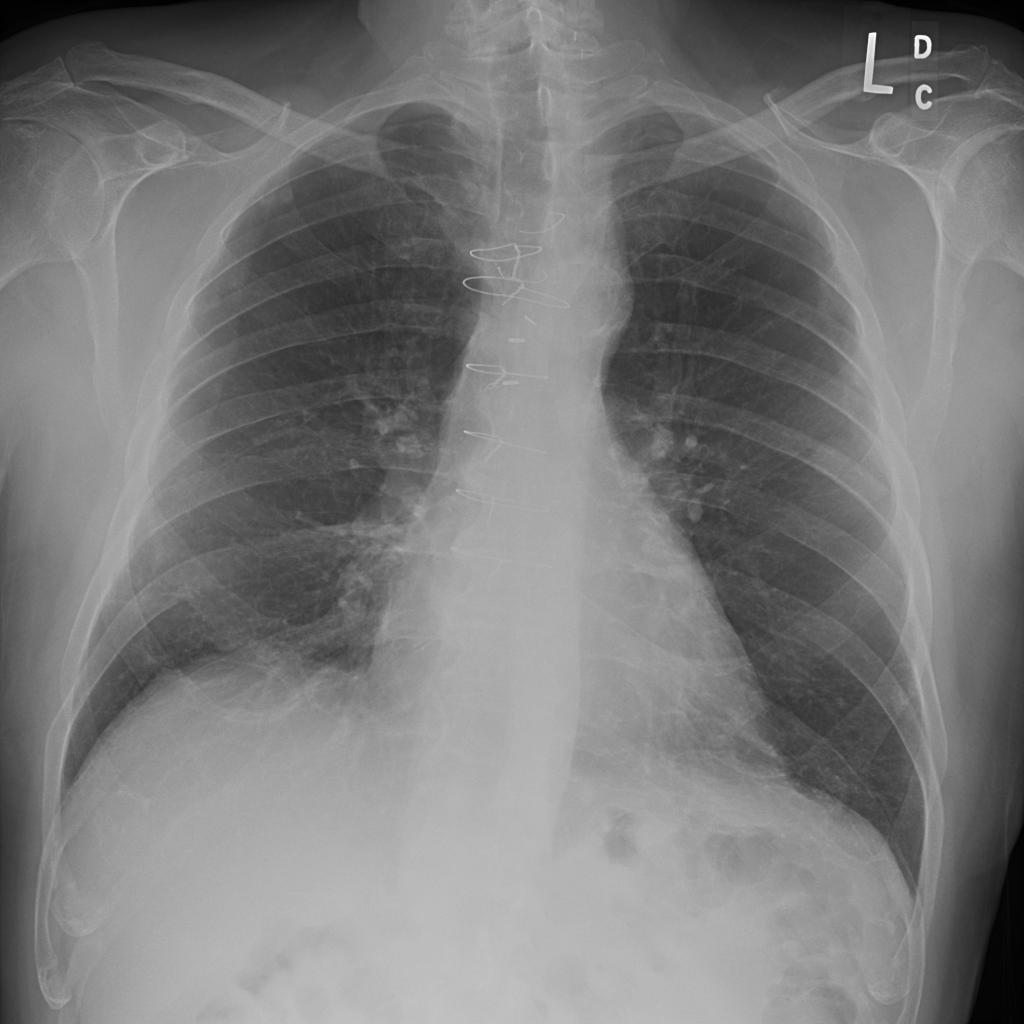Nodule: (405, 213, 442, 253)
